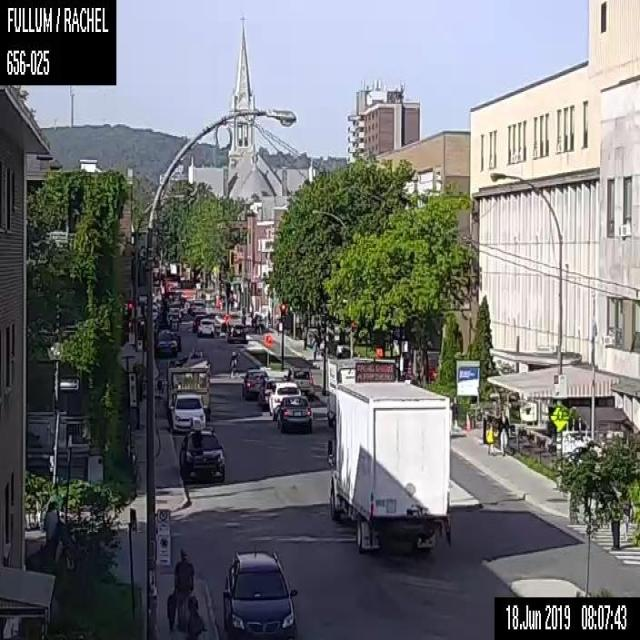construction: (354, 360, 396, 380), (262, 333, 272, 347), (406, 360, 412, 376), (223, 314, 230, 322)
pedestrian: (166, 547, 205, 639), (42, 499, 60, 541), (498, 409, 508, 455), (486, 422, 498, 456), (611, 518, 619, 549), (229, 350, 237, 378), (310, 333, 318, 360), (301, 322, 307, 349)
vehicle: (326, 380, 450, 555), (222, 548, 298, 639), (179, 416, 224, 483), (169, 393, 207, 430), (276, 394, 312, 431), (269, 382, 300, 415), (282, 367, 314, 398), (240, 368, 268, 399), (154, 328, 180, 357), (257, 377, 276, 406), (196, 317, 214, 336), (226, 323, 245, 341), (190, 299, 204, 314)
